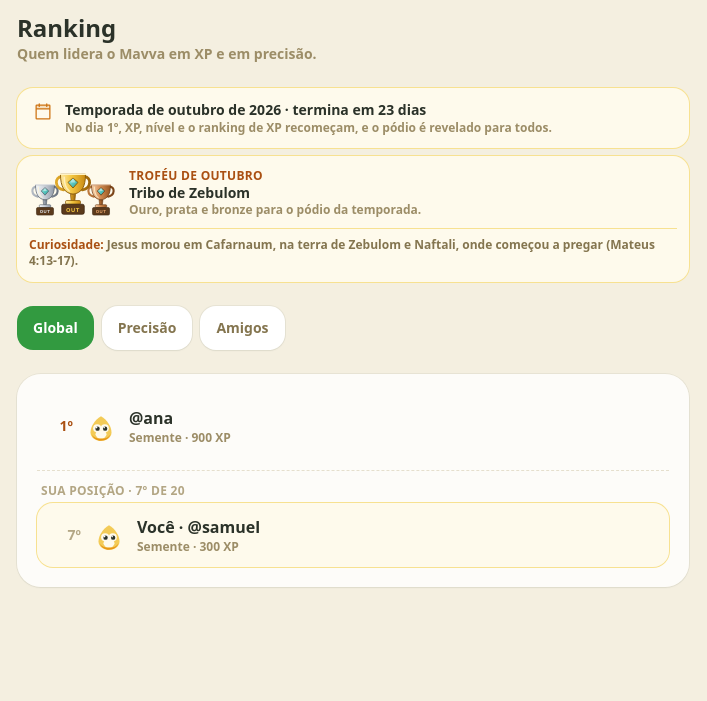
Test: RankingPage › Precisão tab › shows your own position when you qualify outside the top 10
The width and height of the screenshot is (707, 701).
Click the button "Precisão" at {"x": 147, "y": 328}, box [102,306,192,350]
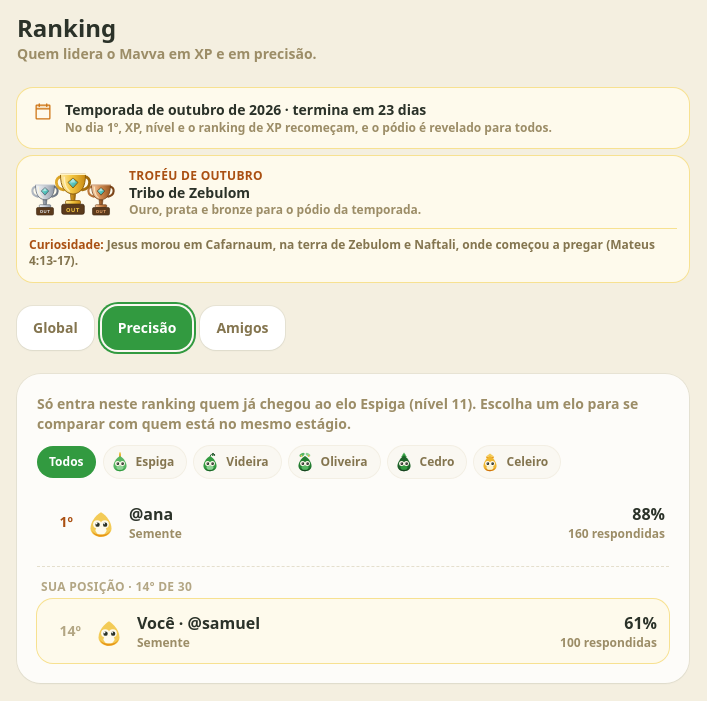
Result: the text "Só entra neste ranking quem já chegou ao elo Espiga (nível 11)" is shown at [37,394,669,434]
Result: the text "Sua posição · 14º de 30" is shown at [41,578,192,594]
Result: the text "61%" is shown at [624,612,657,634]
